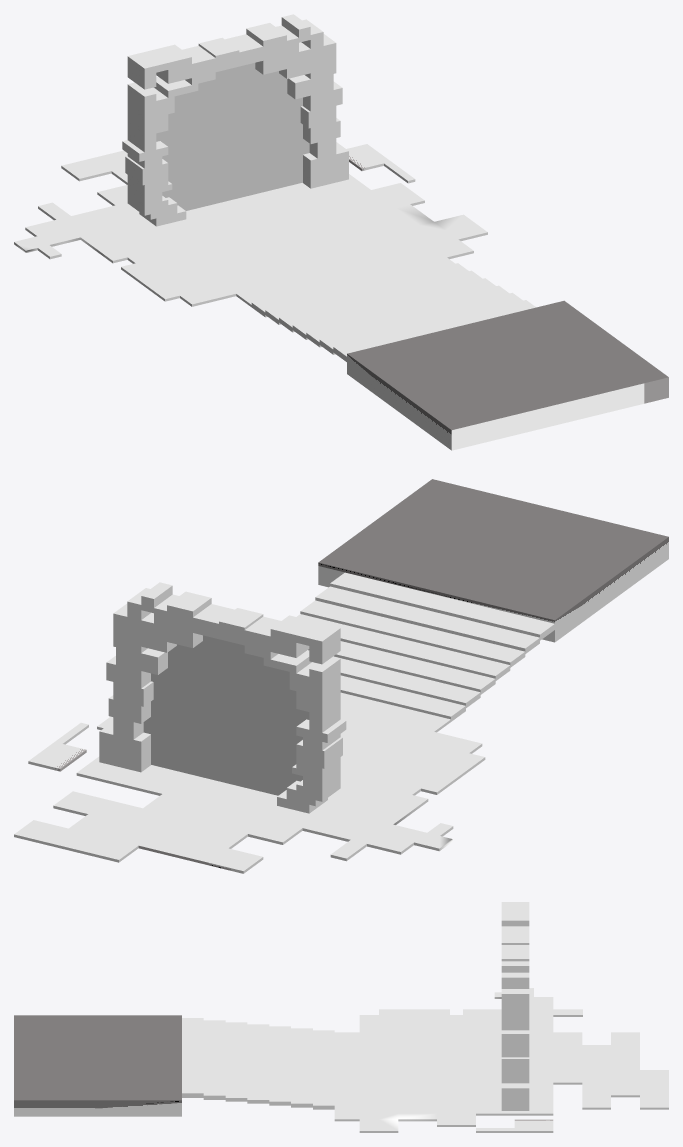
The model's file is Arrival.fbx.
3 renders of one model, top to bottom at view 1: azimuth 30°, elevation 25°; view 2: azimuth 150°, elevation 25°; view 3: azimuth 270°, elevation 25°, orthographic. The views are drawn at different scales.
Parts seen in each view (by area): view 1: Hub Entry, ArkV2.2, Veil.001, Hub Entry.001, Hub Entry.002; view 2: Hub Entry, ArkV2.2, Veil.001, Hub Entry.001, Hub Entry.002; view 3: Hub Entry, Hub Entry.001, ArkV2.2, Hub Entry.002.
Part boxes in pixels (left/top/right/bottom): Hub Entry: left=14, top=174, right=668, bottom=450; ArkV2.2: left=122, top=14, right=348, bottom=226; Veil.001: left=156, top=63, right=309, bottom=210; Hub Entry.001: left=61, top=150, right=127, bottom=205; Hub Entry.002: left=346, top=144, right=415, bottom=183; Hub Entry: left=76, top=479, right=668, bottom=861; ArkV2.2: left=99, top=582, right=346, bottom=813; Veil.001: left=143, top=635, right=309, bottom=795; Hub Entry.001: left=14, top=791, right=302, bottom=873; Hub Entry.002: left=28, top=722, right=88, bottom=771; Hub Entry: left=14, top=988, right=582, bottom=1132; Hub Entry.001: left=553, top=1032, right=668, bottom=1109; ArkV2.2: left=501, top=902, right=529, bottom=1110; Hub Entry.002: left=476, top=1119, right=553, bottom=1132.
Size of the model in its own units: 3096 by 1334 by 5996.
